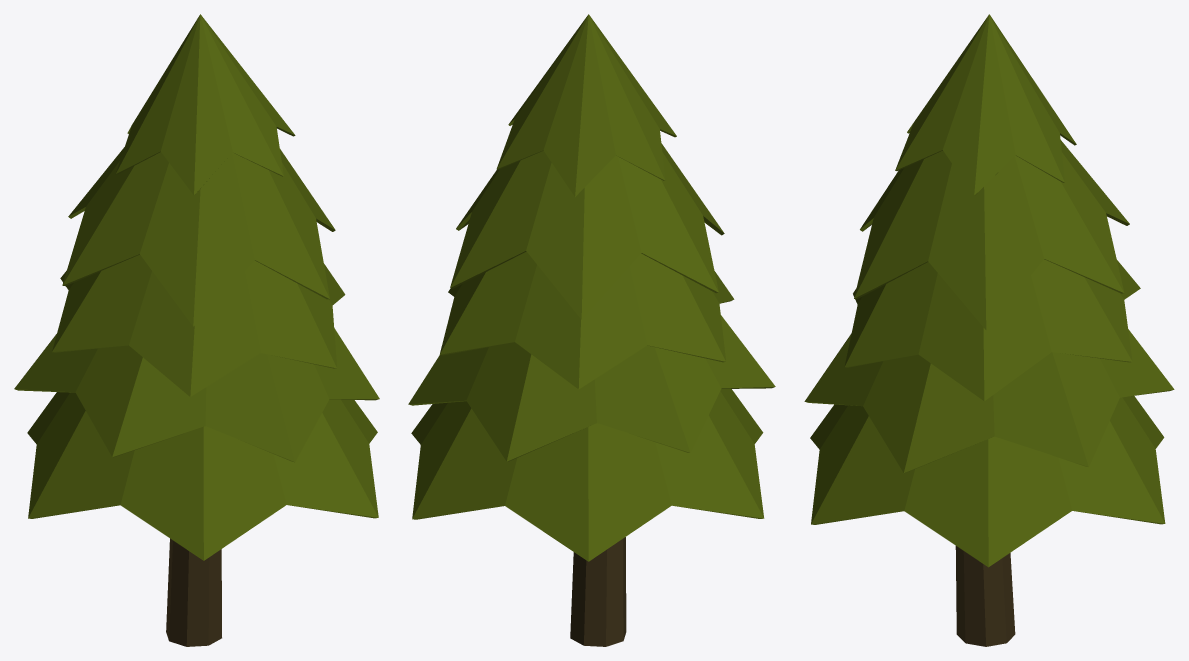
The model's file is tree-12.glb.
3 renders of one model, left to right at view 1: azimuth 30°, elevation 25°; view 2: azimuth 150°, elevation 25°; view 3: azimuth 270°, elevation 25°, orthographic.
Visible parts, largest first — view 1: Tree4_2.001; view 2: Tree4_2.001; view 3: Tree4_2.001.
Part boxes in pixels (box(x1,y1,x2,y2)): Tree4_2.001: box(14, 14, 379, 646); Tree4_2.001: box(408, 14, 775, 646); Tree4_2.001: box(804, 14, 1174, 646).
Size of the model in its own units: 5.11 by 8.61 by 4.63.
